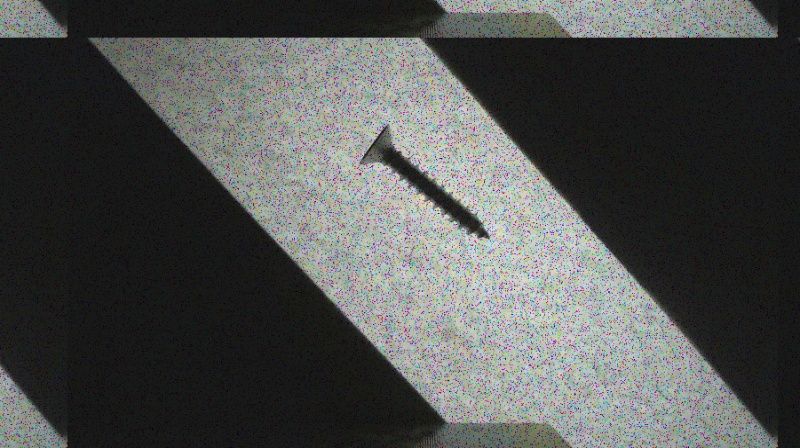S001: (356, 123, 493, 243)
